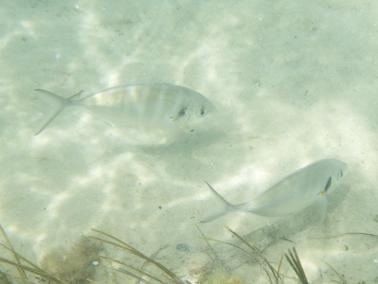Carangidae -Jacks-: (197, 153, 365, 225), (28, 83, 215, 141)
